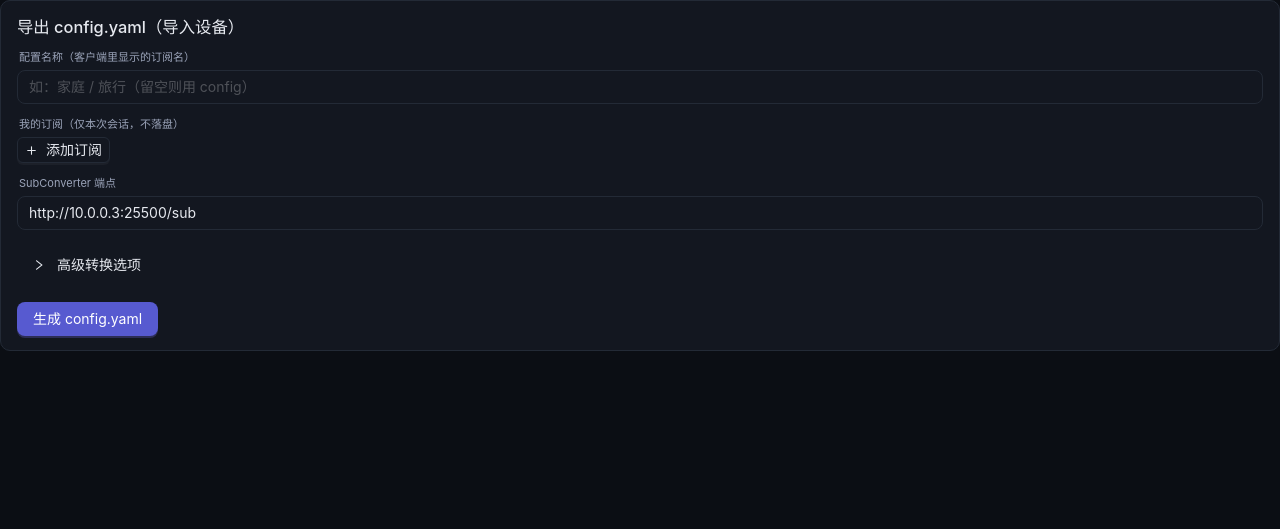
reports an unreachable template and keeps the entered subscriptions
Click the button "添加订阅": (64, 150) [17, 138, 110, 163]
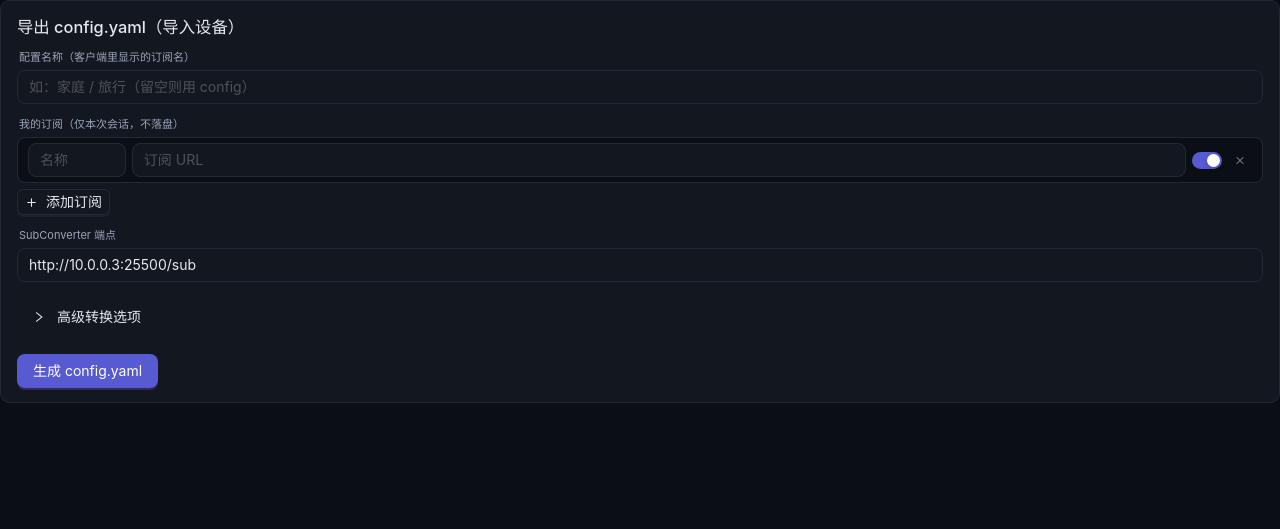
In the field with placeholder "订阅 URL": (659, 160) [132, 144, 1186, 178], type "https://air/sub"
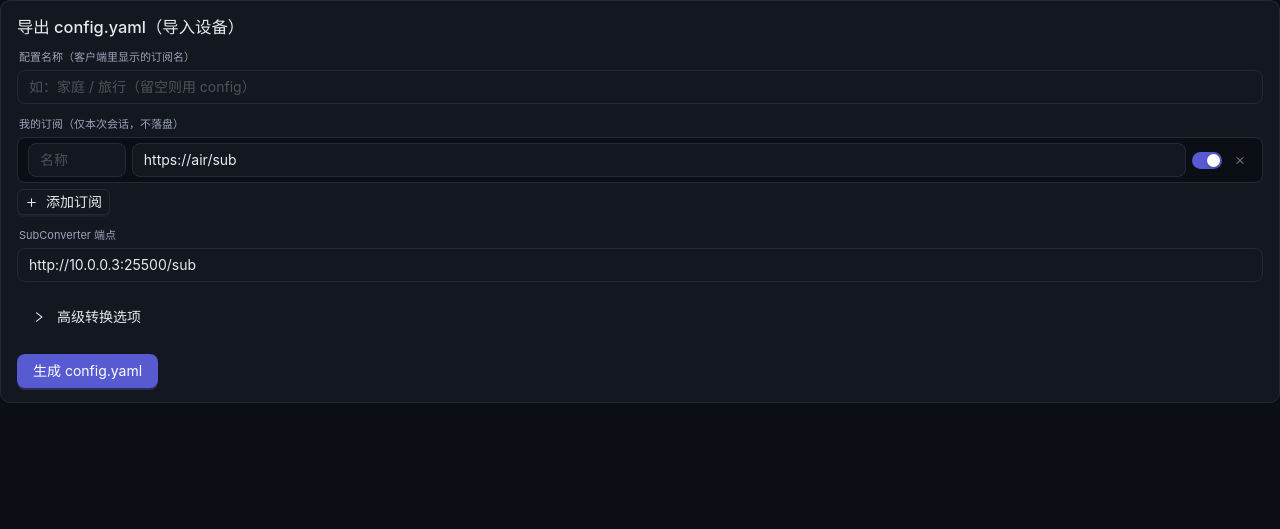
Click the button "生成 config.yaml": (88, 371) [17, 354, 158, 388]
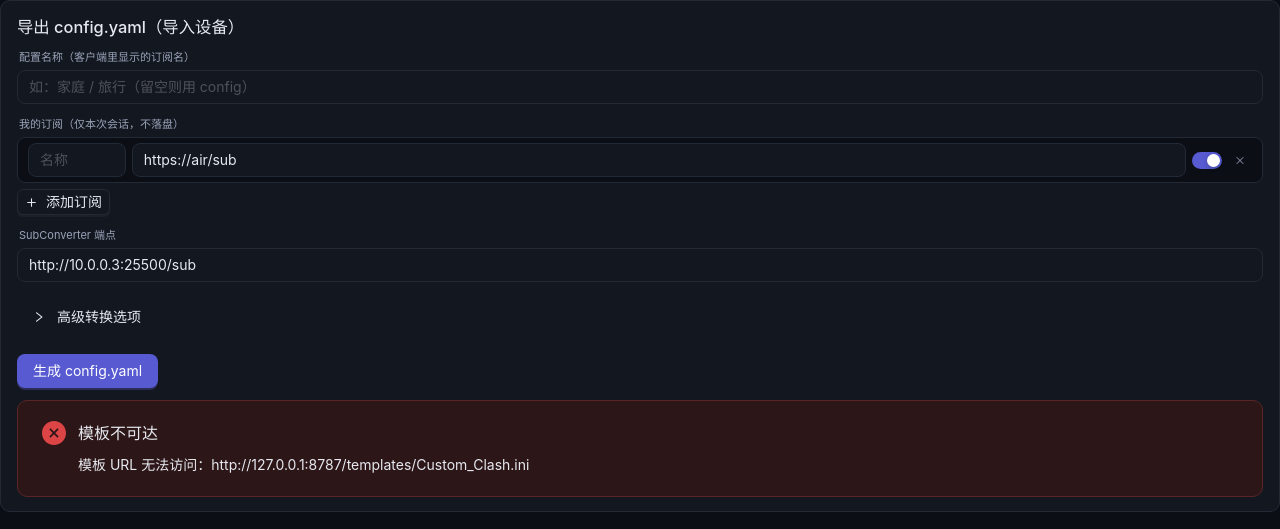
Result: the message with test id "generate-failure" shows "模板不可达" at [78, 423, 158, 443]
